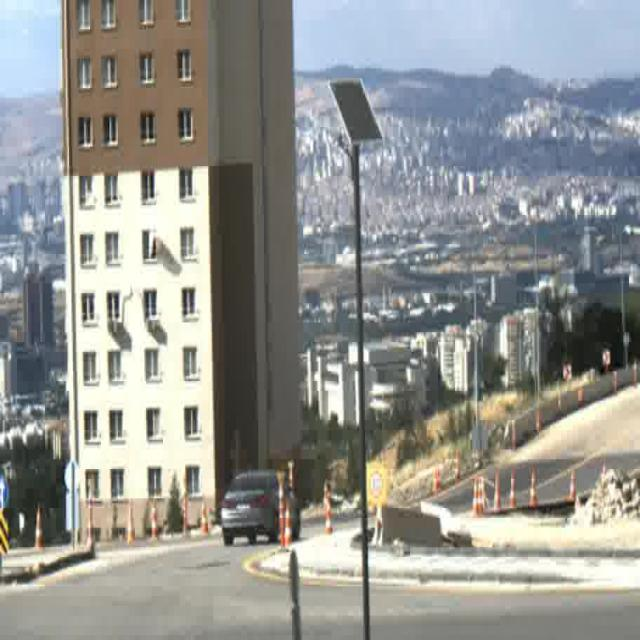Car: (220, 467, 300, 546)
